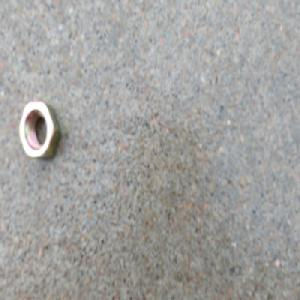Nut: (18, 98, 63, 161)
